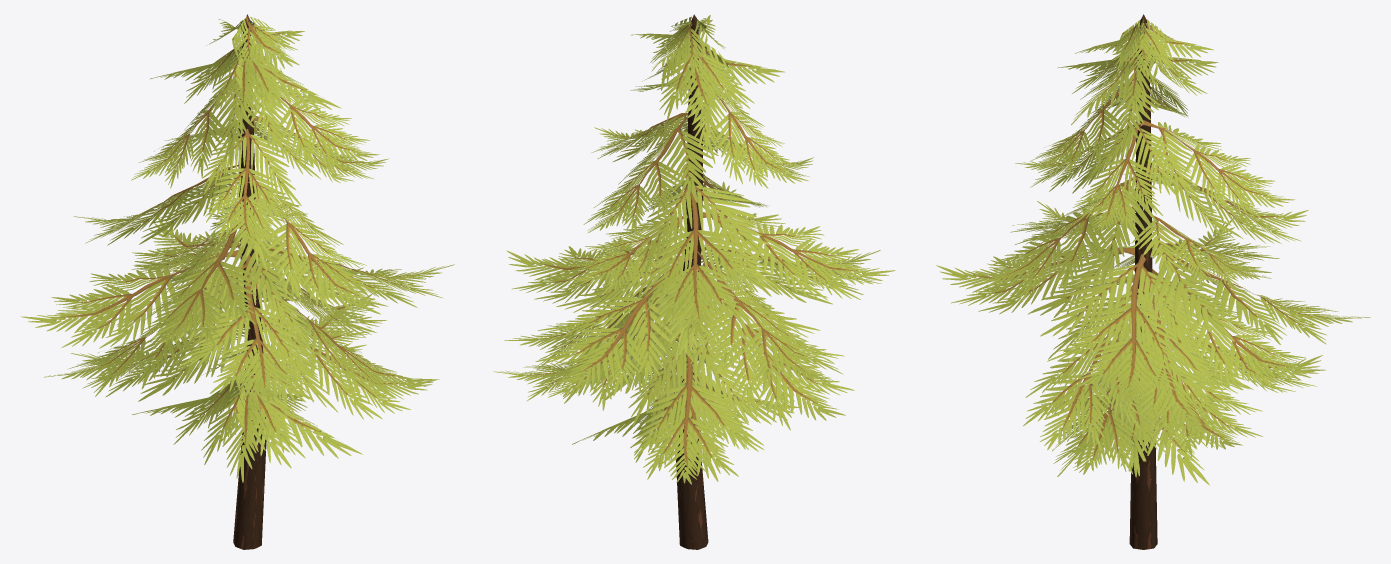
Rendered from pine_5.glb.
3 renders of one model, left to right at view 1: azimuth 30°, elevation 25°; view 2: azimuth 150°, elevation 25°; view 3: azimuth 270°, elevation 25°, orthographic.
Size of the model in its own units: 3.31 by 4.3 by 3.29.
Materials: 2 (2 with a texture image).
